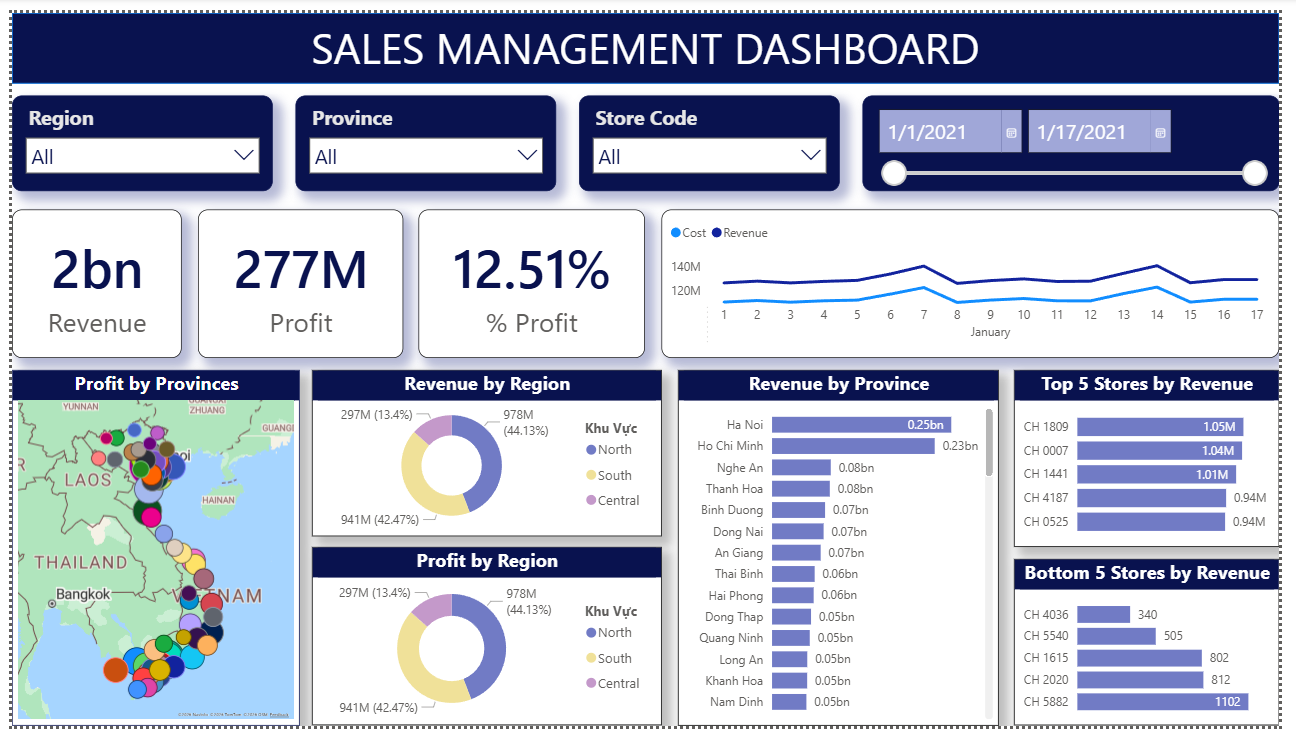

The page's visual inventory and layout, read from the dashboard file:
{"tool":"powerbi","page":{"name":"Dashboard","canvas":[1280,720],"ordinal":0},"visuals":[{"type":"textbox","box":[0,0,1280.3,71.2],"z":0},{"type":"slicer","fields":{"Values":["DS Tinh.Khu Vực"]},"box":[0,83.3,263.6,97],"z":1000},{"type":"slicer","fields":{"Values":["DS Tinh.Tỉnh"]},"box":[286.4,83.3,263.6,97],"z":2000},{"type":"slicer","fields":{"Values":["DS Cua Hang.Mã Cửa Hàng"]},"box":[572.7,83.3,263.6,97],"z":3000},{"type":"slicer","fields":{"Values":["Ket Qua KD.Ngày"]},"box":[858.8,83.3,421.2,97],"z":4000},{"type":"cardVisual","fields":{"Data":["Sum(Ket Qua KD.Doanh Thu)"]},"box":[0,198.5,171.2,150],"z":5000},{"type":"cardVisual","fields":{"Data":["Sum(Ket Qua KD.Lợi Nhuận)"]},"box":[187.4,198.5,207.6,150],"z":6000},{"type":"cardVisual","fields":{"Data":["Ket Qua KD.% Profit"]},"box":[411.1,198.5,228.8,150],"z":7000},{"type":"lineChart","fields":{"Y":["Sum(Ket Qua KD.Chi Phí)","Sum(Ket Qua KD.Doanh Thu)"],"Category":["Ket Qua KD.Ngày.Variation.Date Hierarchy.Month","Ket Qua KD.Ngày.Variation.Date Hierarchy.Day"]},"box":[655.8,198.5,624.2,150],"z":8000},{"type":"azureMap","title":"Profit by Provinces","fields":{"Series":["DS Tinh.Tỉnh"],"Y":["DS Tinh.latitude"],"X":["DS Tinh.longitude"],"Size":["Sum(Ket Qua KD.Lợi Nhuận)"]},"box":[0,360.6,290.9,359.1],"z":9000},{"type":"donutChart","title":"Revenue by Region","fields":{"Category":["DS Tinh.Khu Vực"],"Y":["Sum(Ket Qua KD.Doanh Thu)"]},"box":[303,360.6,353,168.2],"z":10000},{"type":"donutChart","title":"Profit by Region","fields":{"Category":["DS Tinh.Khu Vực"],"Y":["Sum(Ket Qua KD.Doanh Thu)"]},"box":[303,539.4,353,180.3],"z":11000},{"type":"clusteredBarChart","title":"Revenue by Province","fields":{"Category":["DS Tinh.Tỉnh"],"Y":["Sum(Ket Qua KD.Doanh Thu)"]},"box":[672.7,360.6,324.2,359.1],"z":11001},{"type":"clusteredBarChart","title":"Top 5 Stores by Revenue","fields":{"Y":["Sum(Ket Qua KD.Doanh Thu)"],"Category":["DS Cua Hang.Mã Cửa Hàng"]},"box":[1012.1,360.6,268.2,178.8],"z":11002},{"type":"clusteredBarChart","title":"Bottom 5 Stores by Revenue","fields":{"Y":["Sum(Ket Qua KD.Doanh Thu)"],"Category":["DS Cua Hang.Mã Cửa Hàng"]},"box":[1012.1,551.5,268.2,168.2],"z":11003}]}

Visuals, with their boxes in screenshot pixels (x1, y1, x2, y2), scaled from the page's 1280x720 canvas onto the 1296x733 screenshot:
textbox: <region>0, 0, 1295, 72</region>
slicer - DS Tinh.Khu Vực: <region>0, 85, 267, 184</region>
slicer - DS Tinh.Tỉnh: <region>290, 85, 557, 184</region>
slicer - DS Cua Hang.Mã Cửa Hàng: <region>580, 85, 847, 184</region>
slicer - Ket Qua KD.Ngày: <region>870, 85, 1295, 184</region>
cardVisual - Sum(Ket Qua KD.Doanh Thu): <region>0, 202, 173, 355</region>
cardVisual - Sum(Ket Qua KD.Lợi Nhuận): <region>190, 202, 400, 355</region>
cardVisual - Ket Qua KD.% Profit: <region>416, 202, 648, 355</region>
lineChart - Sum(Ket Qua KD.Chi Phí) x Sum(Ket Qua KD.Doanh Thu): <region>664, 202, 1295, 355</region>
"Profit by Provinces" azureMap: <region>0, 367, 295, 732</region>
"Revenue by Region" donutChart: <region>307, 367, 664, 538</region>
"Profit by Region" donutChart: <region>307, 549, 664, 732</region>
"Revenue by Province" clusteredBarChart: <region>681, 367, 1009, 732</region>
"Top 5 Stores by Revenue" clusteredBarChart: <region>1025, 367, 1295, 549</region>
"Bottom 5 Stores by Revenue" clusteredBarChart: <region>1025, 561, 1295, 732</region>
